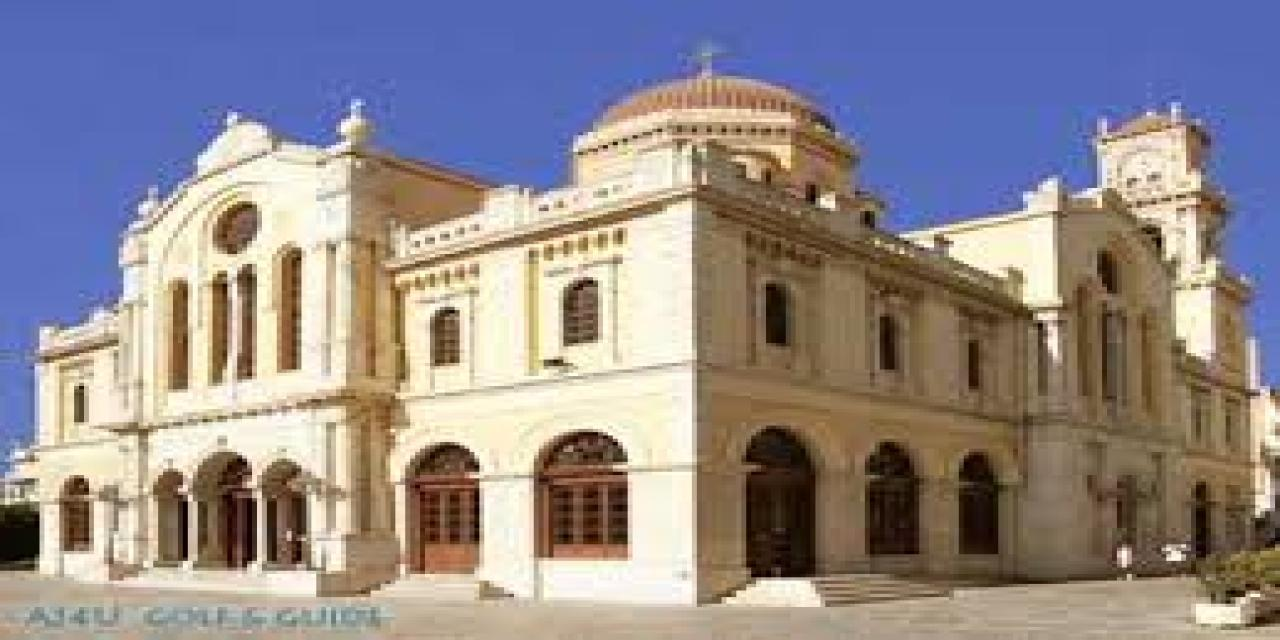Agios Minas: (35, 49, 1266, 609)
